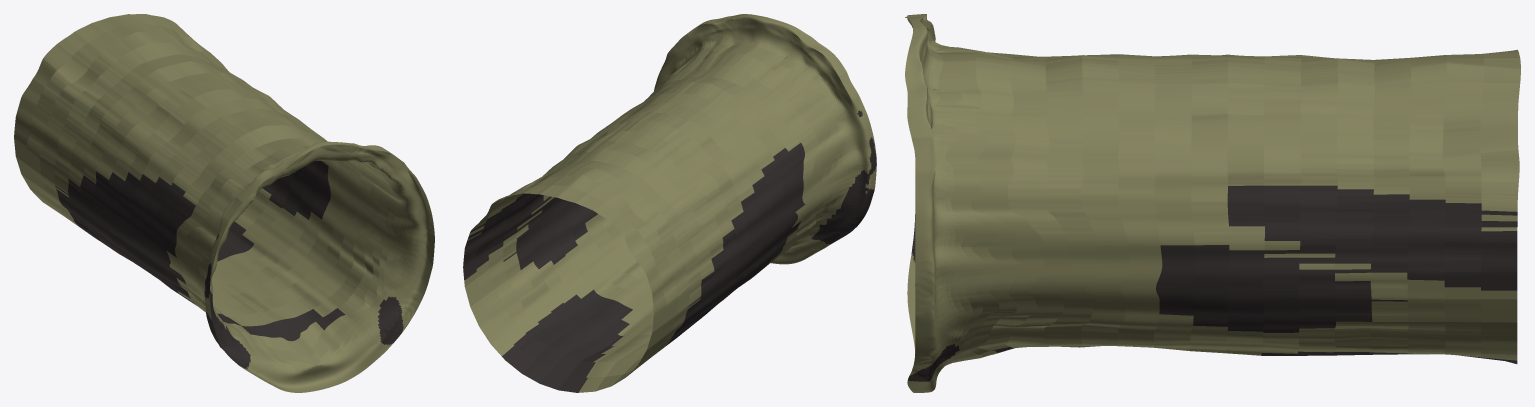
Rendered from pipe.fbx.
3 views of the same model, side by side, from view 1: azimuth 30°, elevation 25°; view 2: azimuth 150°, elevation 25°; view 3: azimuth 270°, elevation 25° (orthographic). The views are drawn at different scales.
Parts seen in each view (by area): view 1: Circle; view 2: Circle; view 3: Circle.
Boxes of the visible parts, x1,y1,x2,y2 form: Circle: [14, 14, 434, 392]; Circle: [463, 14, 876, 392]; Circle: [905, 14, 1520, 392].
Bounding box in the file's own units: 232 × 240 × 385.
